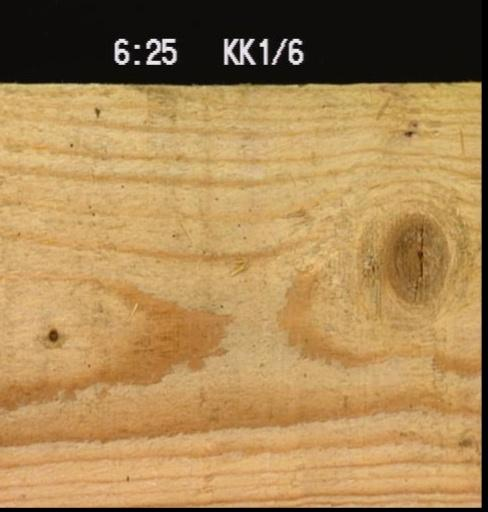small_knot: (42, 324, 62, 343)
sound_knot: (371, 206, 457, 311)
